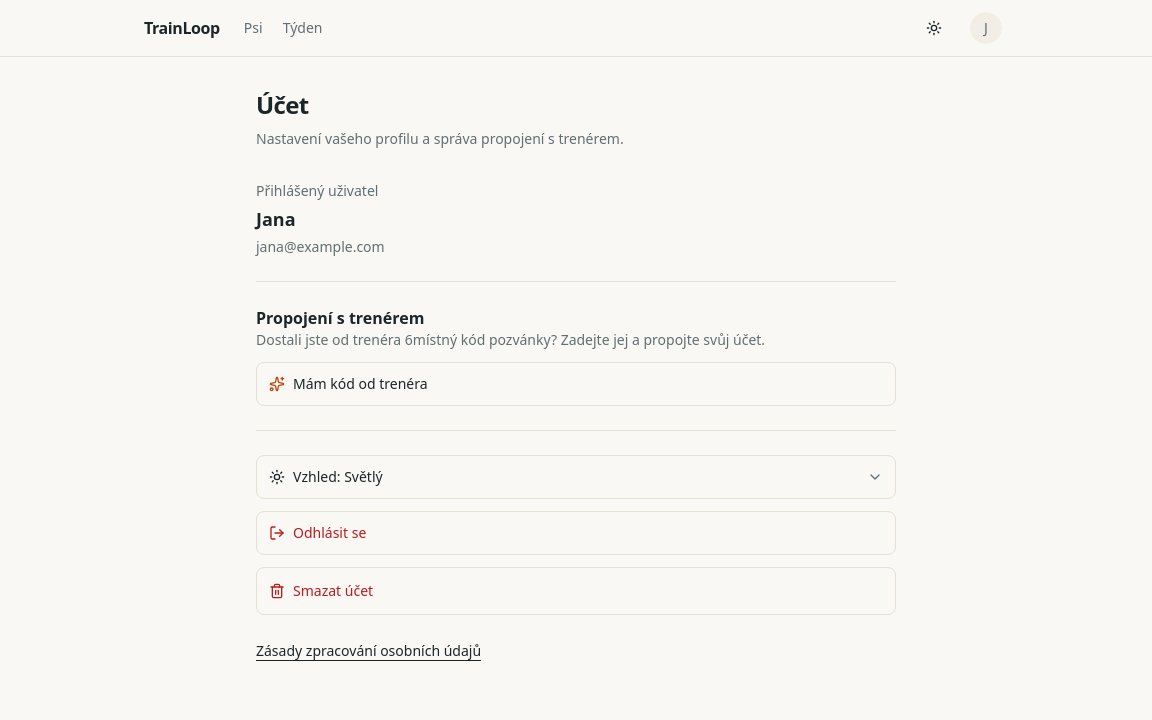
Test case: account deletion › reports a network failure without logging out or clearing account data
The width and height of the screenshot is (1152, 720).
Click the button "Smazat účet".
click(333, 590)  # box [256,567,896,615]
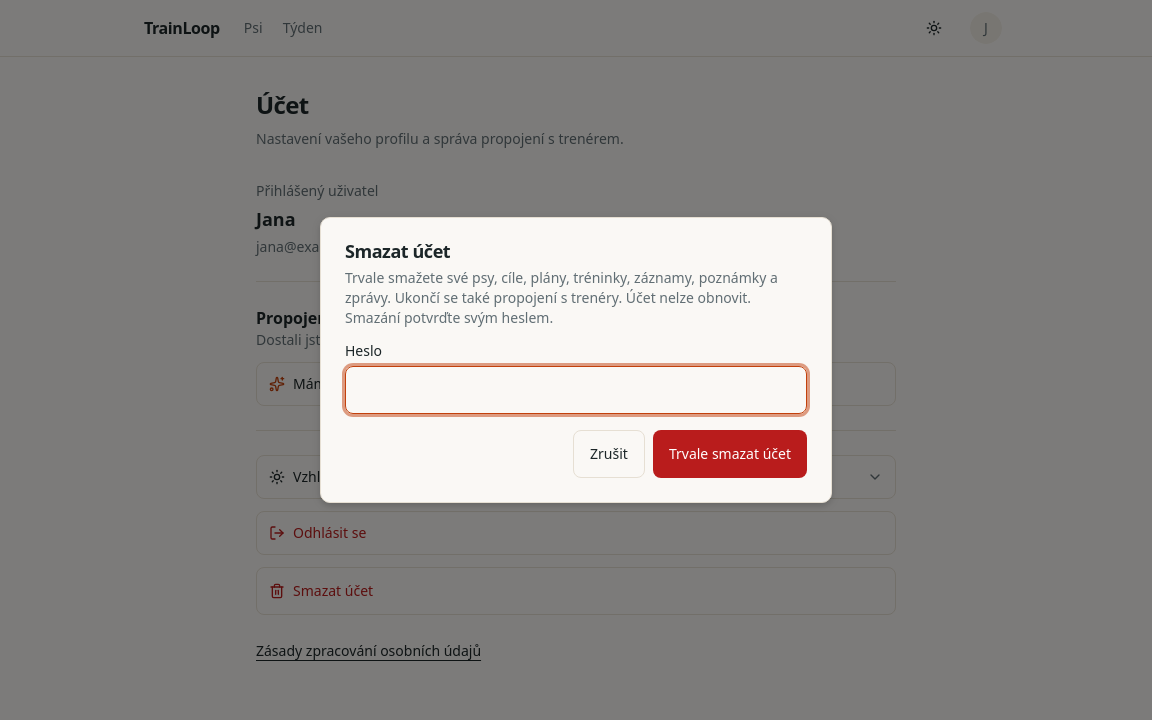
Type "password" into the password field labelled "Heslo".
click(576, 390); type("password")  # box [345,366,807,414]
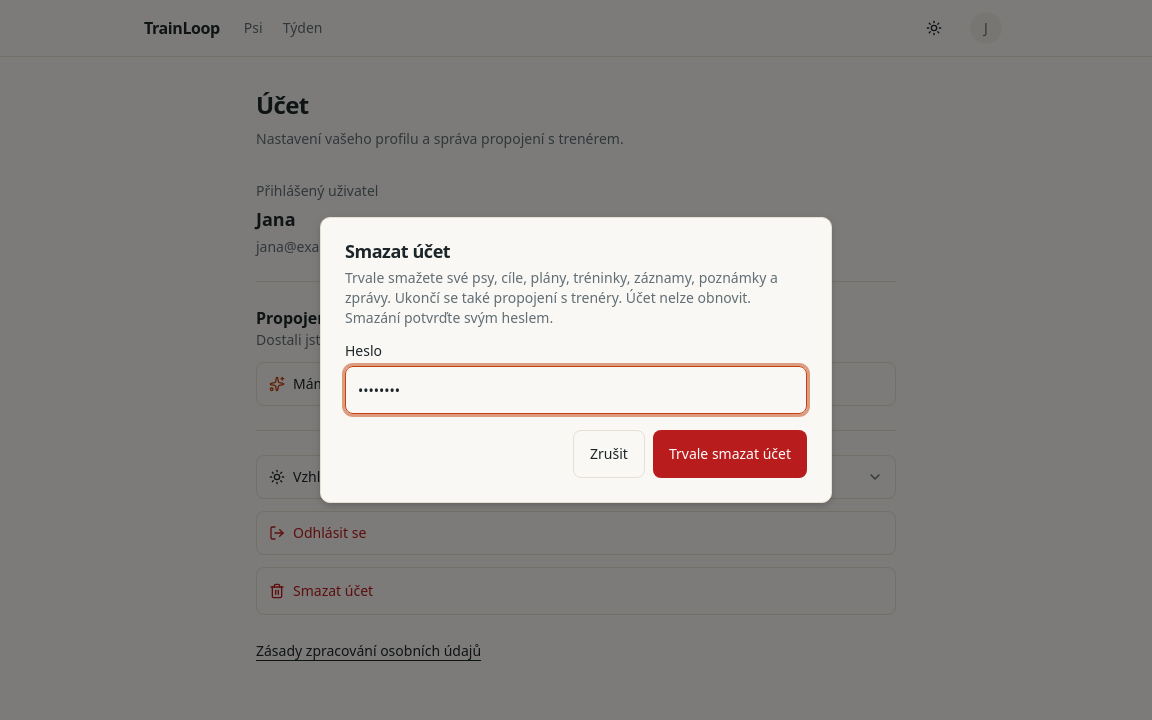
Click the button "Trvale smazat účet".
click(730, 454)  # box [653,430,807,478]
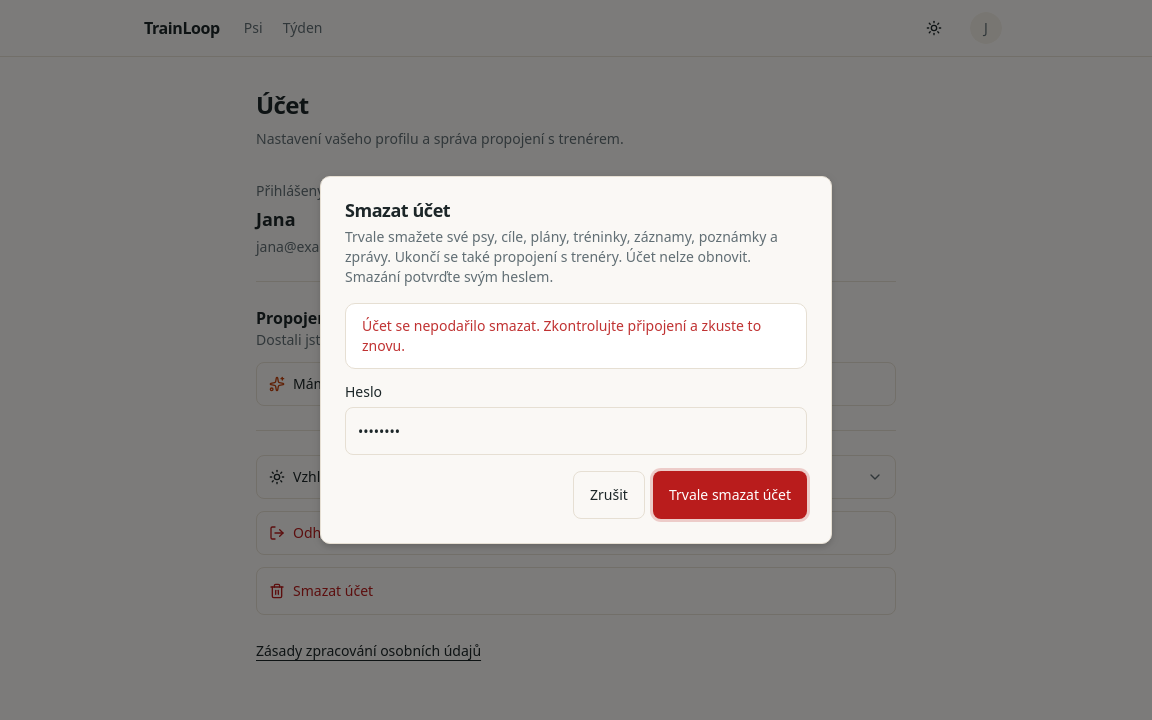
Now the text "Zkontrolujte připojení a zkuste to znovu" is shown, box [362,316,761,355]
